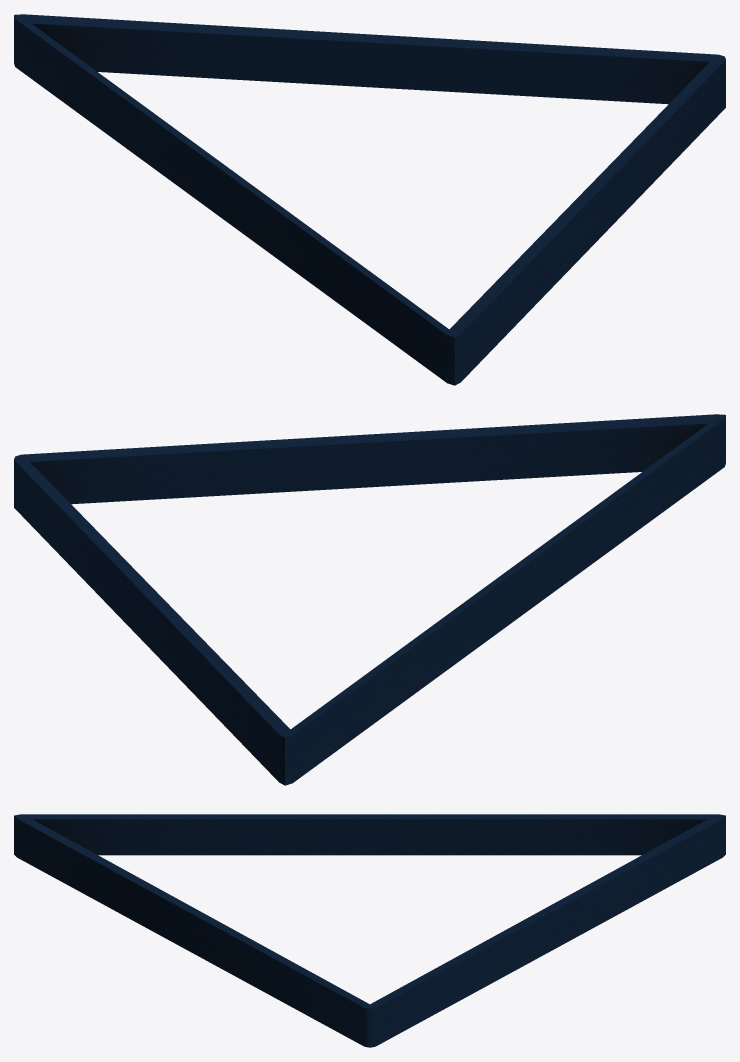
The model's file is trigono.fbx.
3 views of the same model, one above another, from view 1: azimuth 30°, elevation 25°; view 2: azimuth 150°, elevation 25°; view 3: azimuth 270°, elevation 25° (orthographic). The views are drawn at different scales.
Parts seen in each view (by area): view 1: cube1; view 2: cube1; view 3: cube1.
Part boxes in pixels (x1,y1,x2,y2): cube1: [14, 14, 725, 385]; cube1: [14, 414, 725, 785]; cube1: [14, 814, 725, 1047].
Size of the model in its own units: 1.43 by 0.1326 by 2.2.
